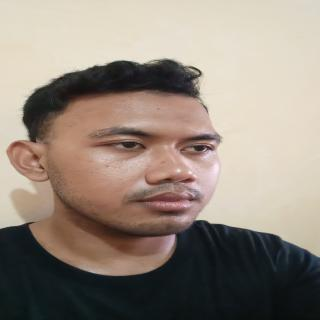Netral: (40, 87, 233, 244)
